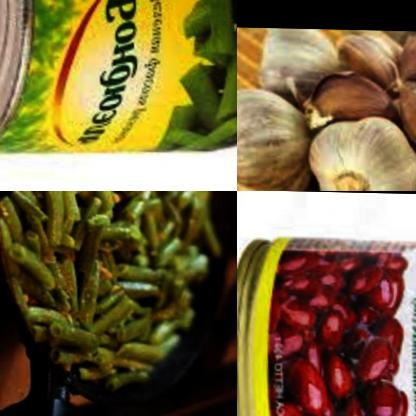fasol: (1, 191, 233, 391), (265, 241, 416, 416), (133, 0, 237, 161)
garlic: (296, 104, 416, 191), (237, 79, 318, 191), (248, 27, 342, 97), (299, 63, 398, 129), (339, 28, 416, 80), (385, 75, 416, 148)
